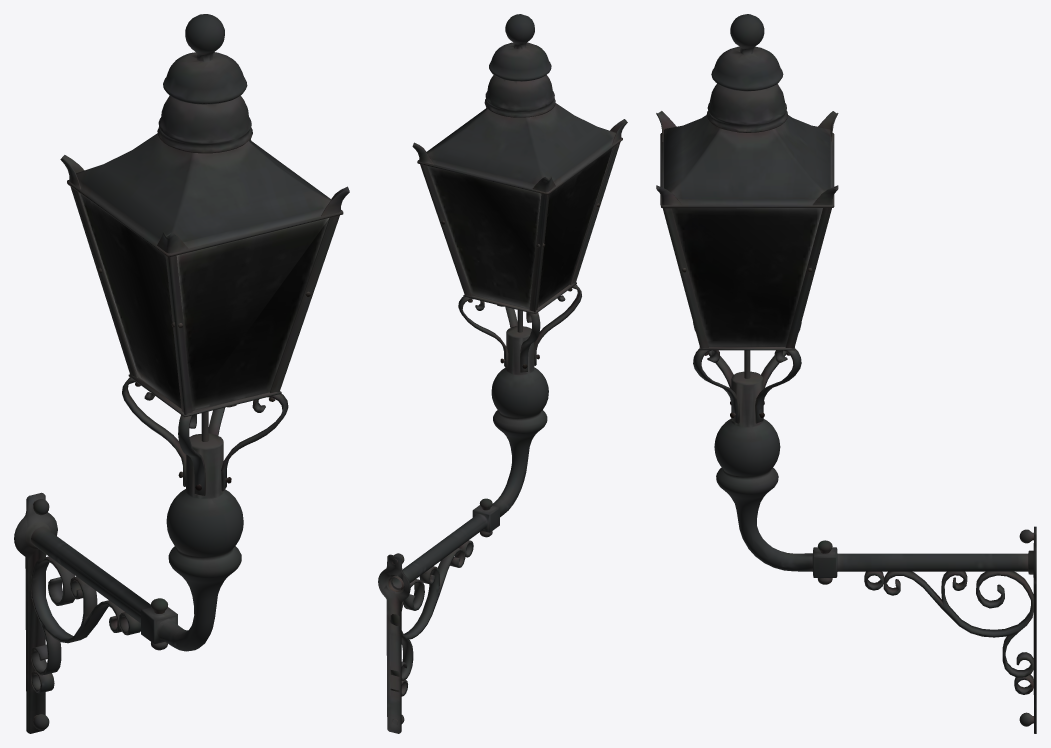
The model's file is luminaria_parede.glb.
3 views of the same model, side by side, from view 1: azimuth 30°, elevation 25°; view 2: azimuth 150°, elevation 25°; view 3: azimuth 270°, elevation 25° (orthographic). The views are drawn at different scales.
Visible parts, largest first — view 1: street_lamp_02; view 2: street_lamp_02; view 3: street_lamp_02.
Part boxes in pixels (left/top/right/bottom): street_lamp_02: left=14, top=14, right=349, bottom=733; street_lamp_02: left=378, top=14, right=627, bottom=733; street_lamp_02: left=656, top=14, right=1036, bottom=733.
Size of the model in its own units: 0.3862 by 1.67 by 0.8067.
Materials: 2 (2 with a texture image).
